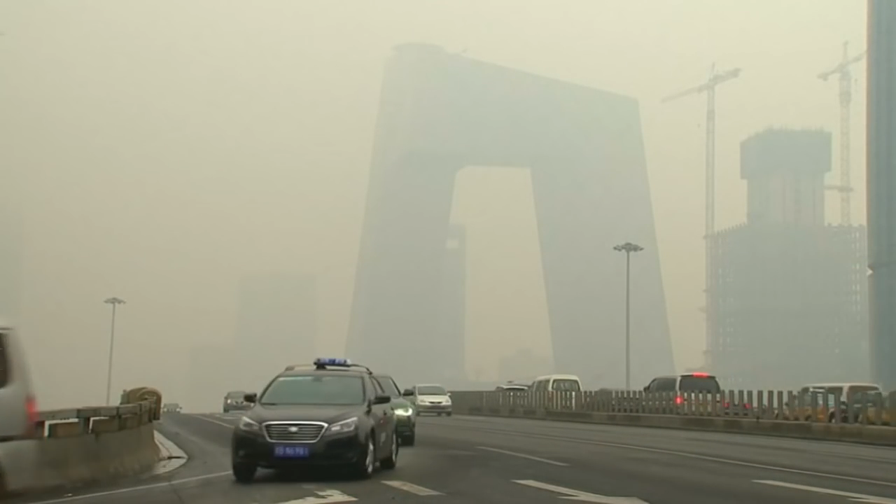car: (230, 357, 400, 481), (308, 368, 420, 447), (784, 382, 886, 434), (638, 372, 726, 419), (525, 373, 586, 415), (401, 382, 453, 416), (487, 381, 530, 414), (221, 389, 255, 413), (159, 401, 182, 415)
